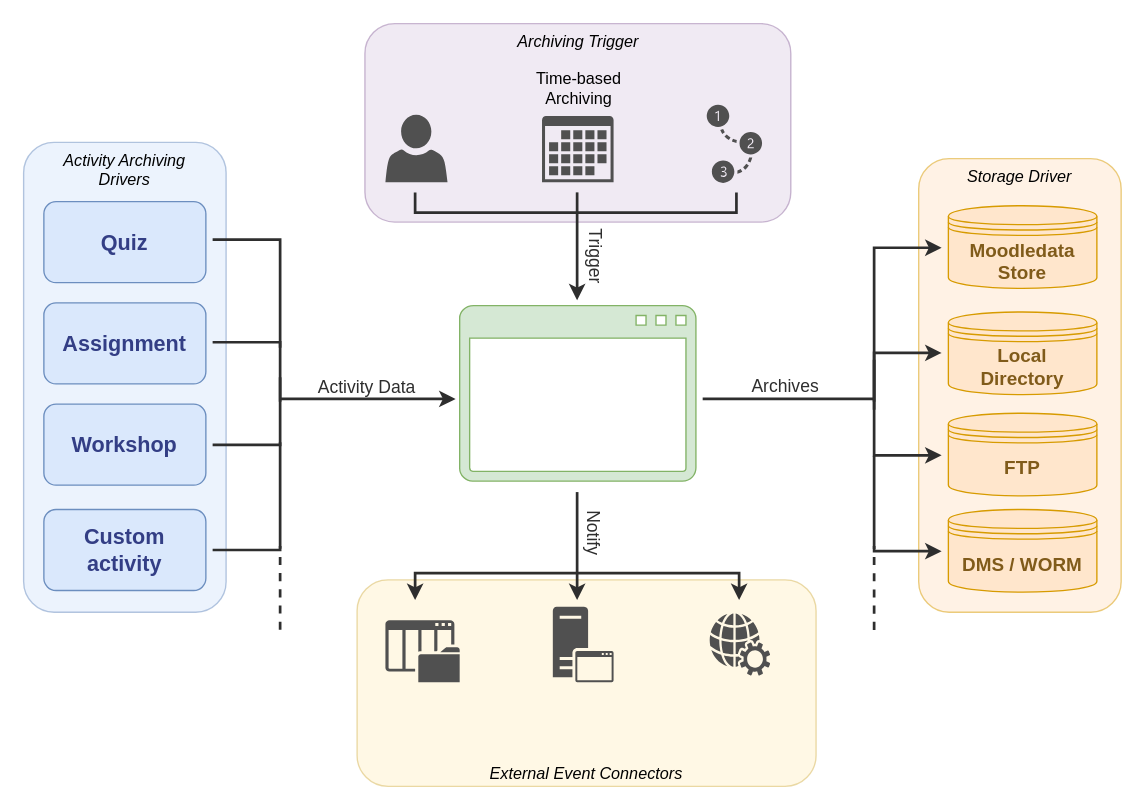
This 1145x810 diagram has some shape labels left out. Here are the shapes that lost their labels. From the top down, the centre of each, then its label:
At (416,148): "Manual Archiving".
At (733,143): "State-based Archiving".
At (577,392): "Archiving Subsystem".
At (422,651): "Student Records".
At (582,644): "Campus Management System".
At (739,644): "Your API / Business Logic".
